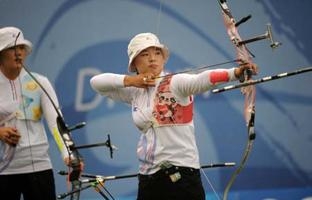person: (89, 33, 260, 199)
